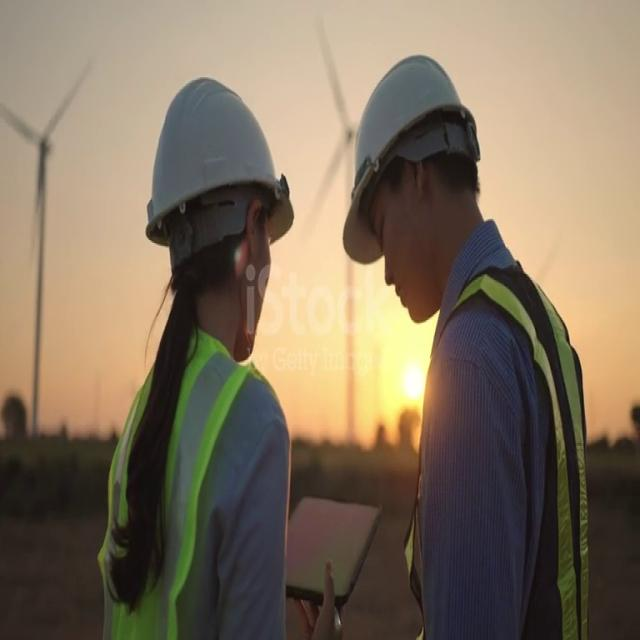capacete: (324, 41, 512, 265), (126, 70, 308, 276)
